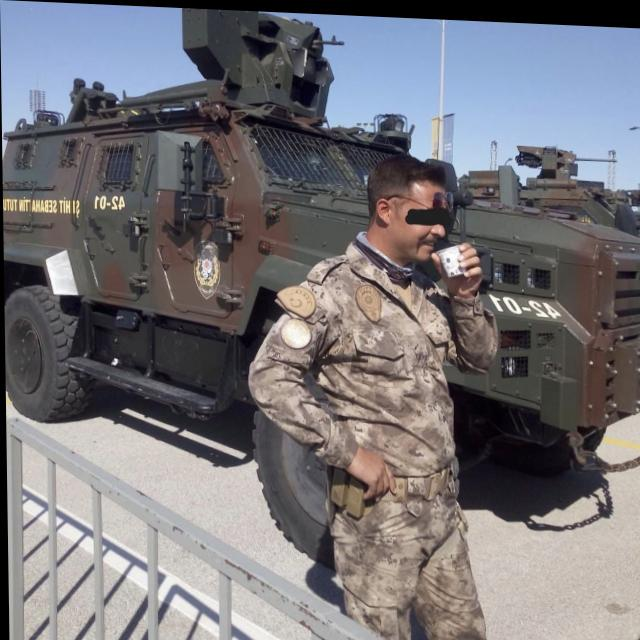poh_personel: (244, 148, 500, 640)
